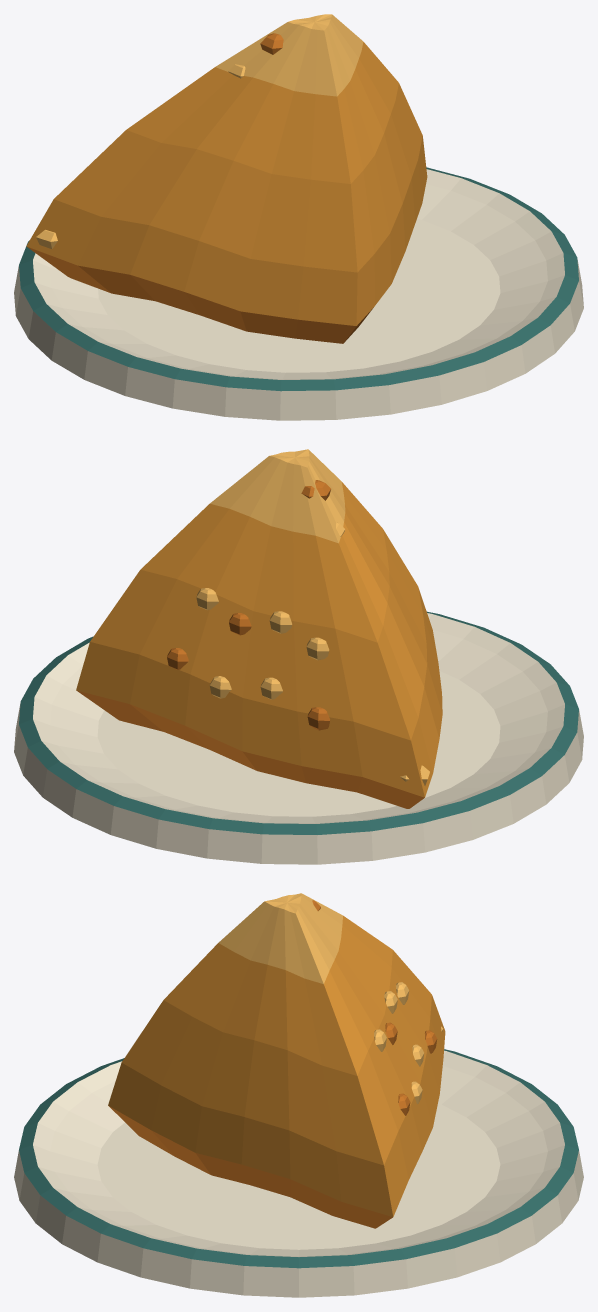
File: plated.obj
3 renders of one model, top to bottom at view 1: azimuth 30°, elevation 25°; view 2: azimuth 150°, elevation 25°; view 3: azimuth 270°, elevation 25°, orthographic.
Visible parts, largest first — view 1: plated; view 2: plated; view 3: plated.
Part boxes in pixels (x1=…): plated: x1=14, y1=14, x2=583, y2=420; plated: x1=14, y1=449, x2=583, y2=864; plated: x1=14, y1=893, x2=583, y2=1297.
Bounding box in the file's own units: 0.696 × 0.3931 × 0.696.
